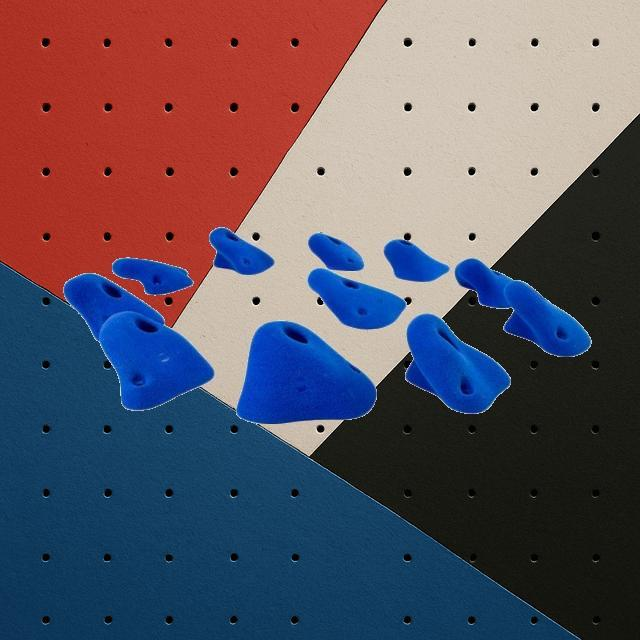Jug: (236, 320, 376, 424), (98, 310, 214, 410), (404, 312, 512, 413), (63, 272, 165, 342), (503, 280, 592, 358), (306, 266, 406, 330), (111, 256, 193, 296), (208, 227, 274, 275), (382, 238, 450, 282), (453, 258, 512, 308), (308, 231, 364, 271)
